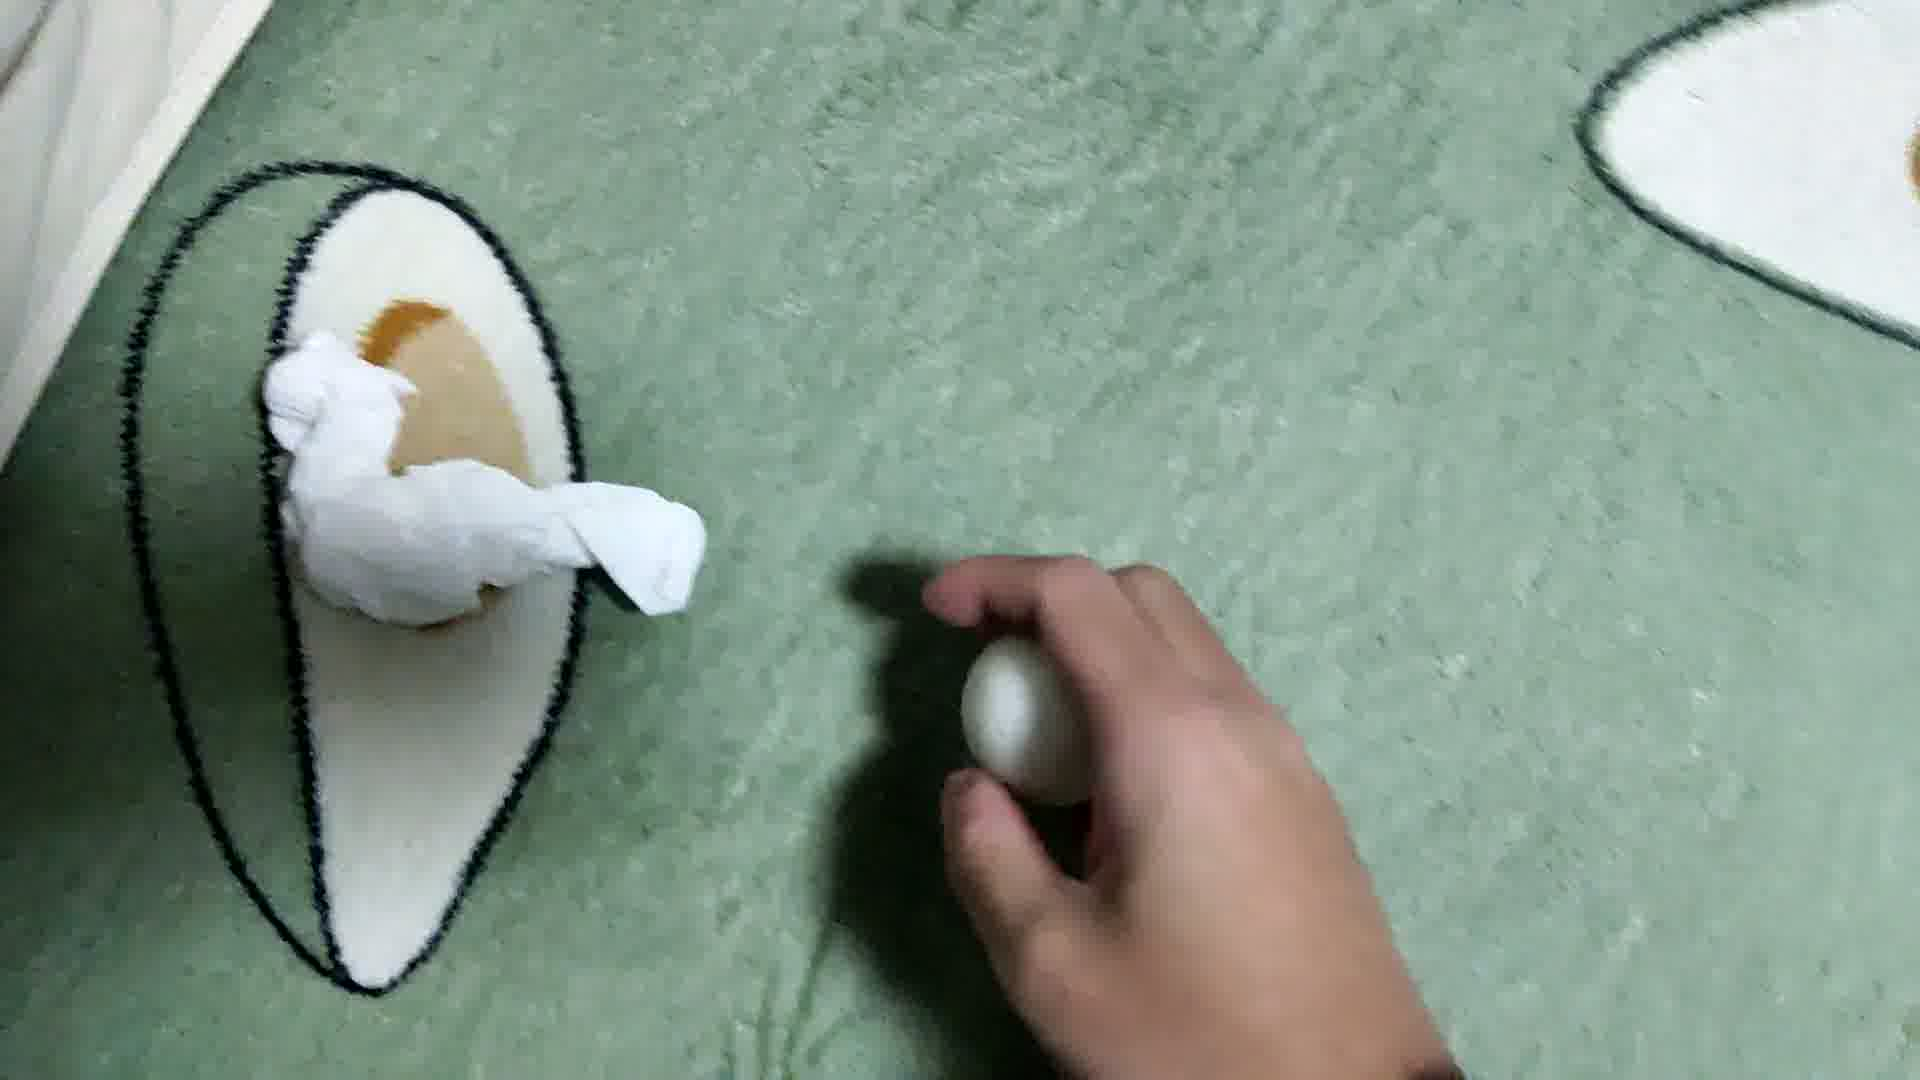Ball: (953, 636, 1127, 806)
